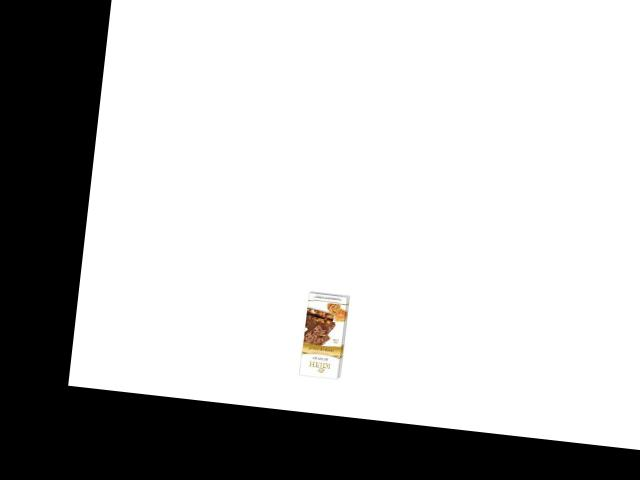chocolate: (297, 288, 352, 383)
